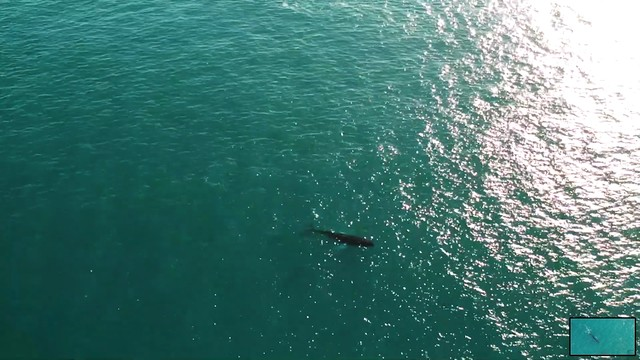whale: (296, 218, 379, 256)
